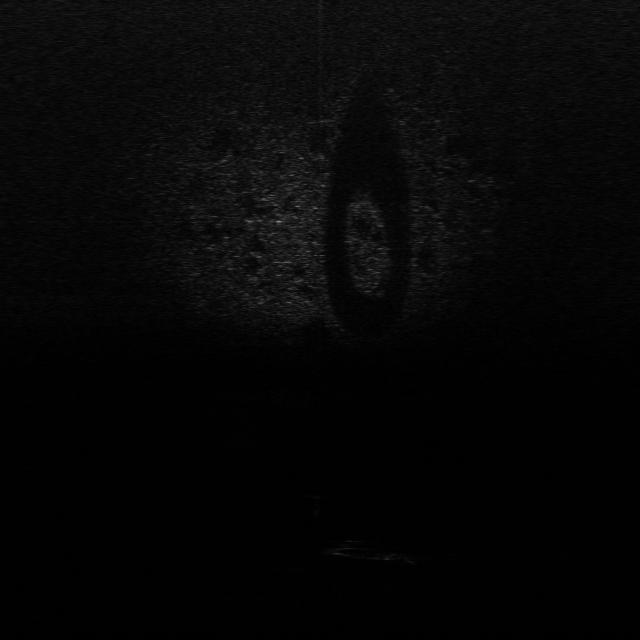ball: (303, 482, 331, 500)
tyre: (318, 535, 416, 566)
